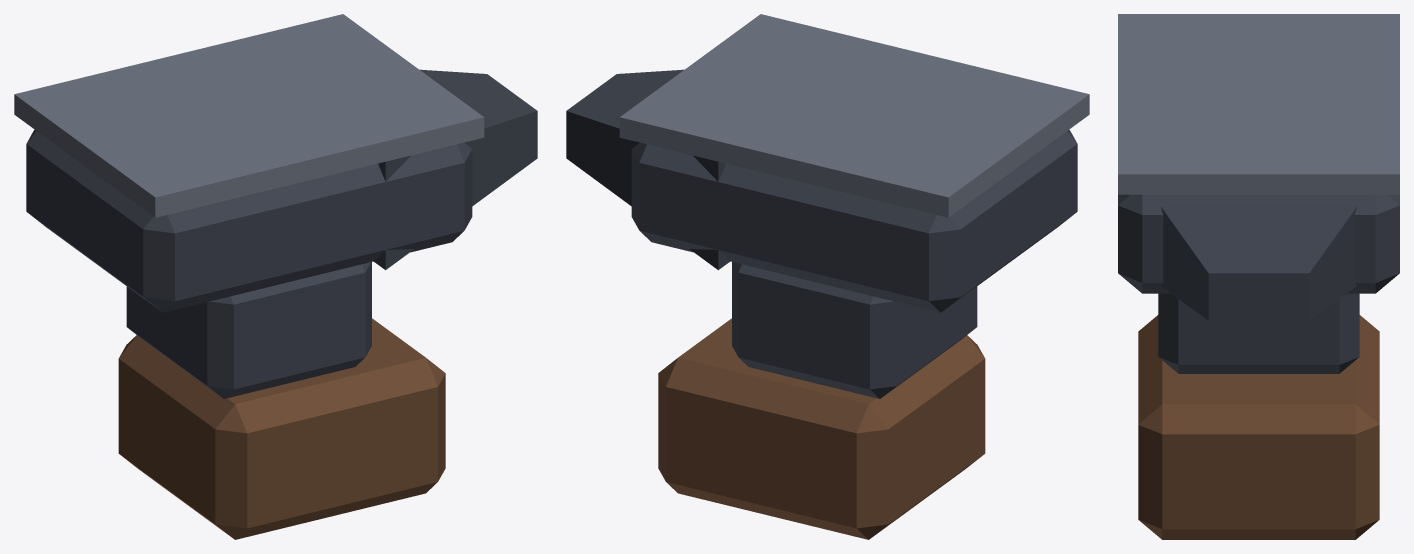
Rendered from env_r3_anvil.glb.
3 views of the same model, side by side, from view 1: azimuth 30°, elevation 25°; view 2: azimuth 150°, elevation 25°; view 3: azimuth 270°, elevation 25° (orthographic).
Visible parts, largest first — view 1: env_r3_anvil; view 2: env_r3_anvil; view 3: env_r3_anvil.
Part boxes in pixels (x1,y1,x2,y2): env_r3_anvil: (14, 14, 537, 539); env_r3_anvil: (566, 14, 1089, 539); env_r3_anvil: (1118, 14, 1399, 539).
Bounding box in the file's own units: 1.4 × 1.2 × 0.8.
1 material, 1 textured.
